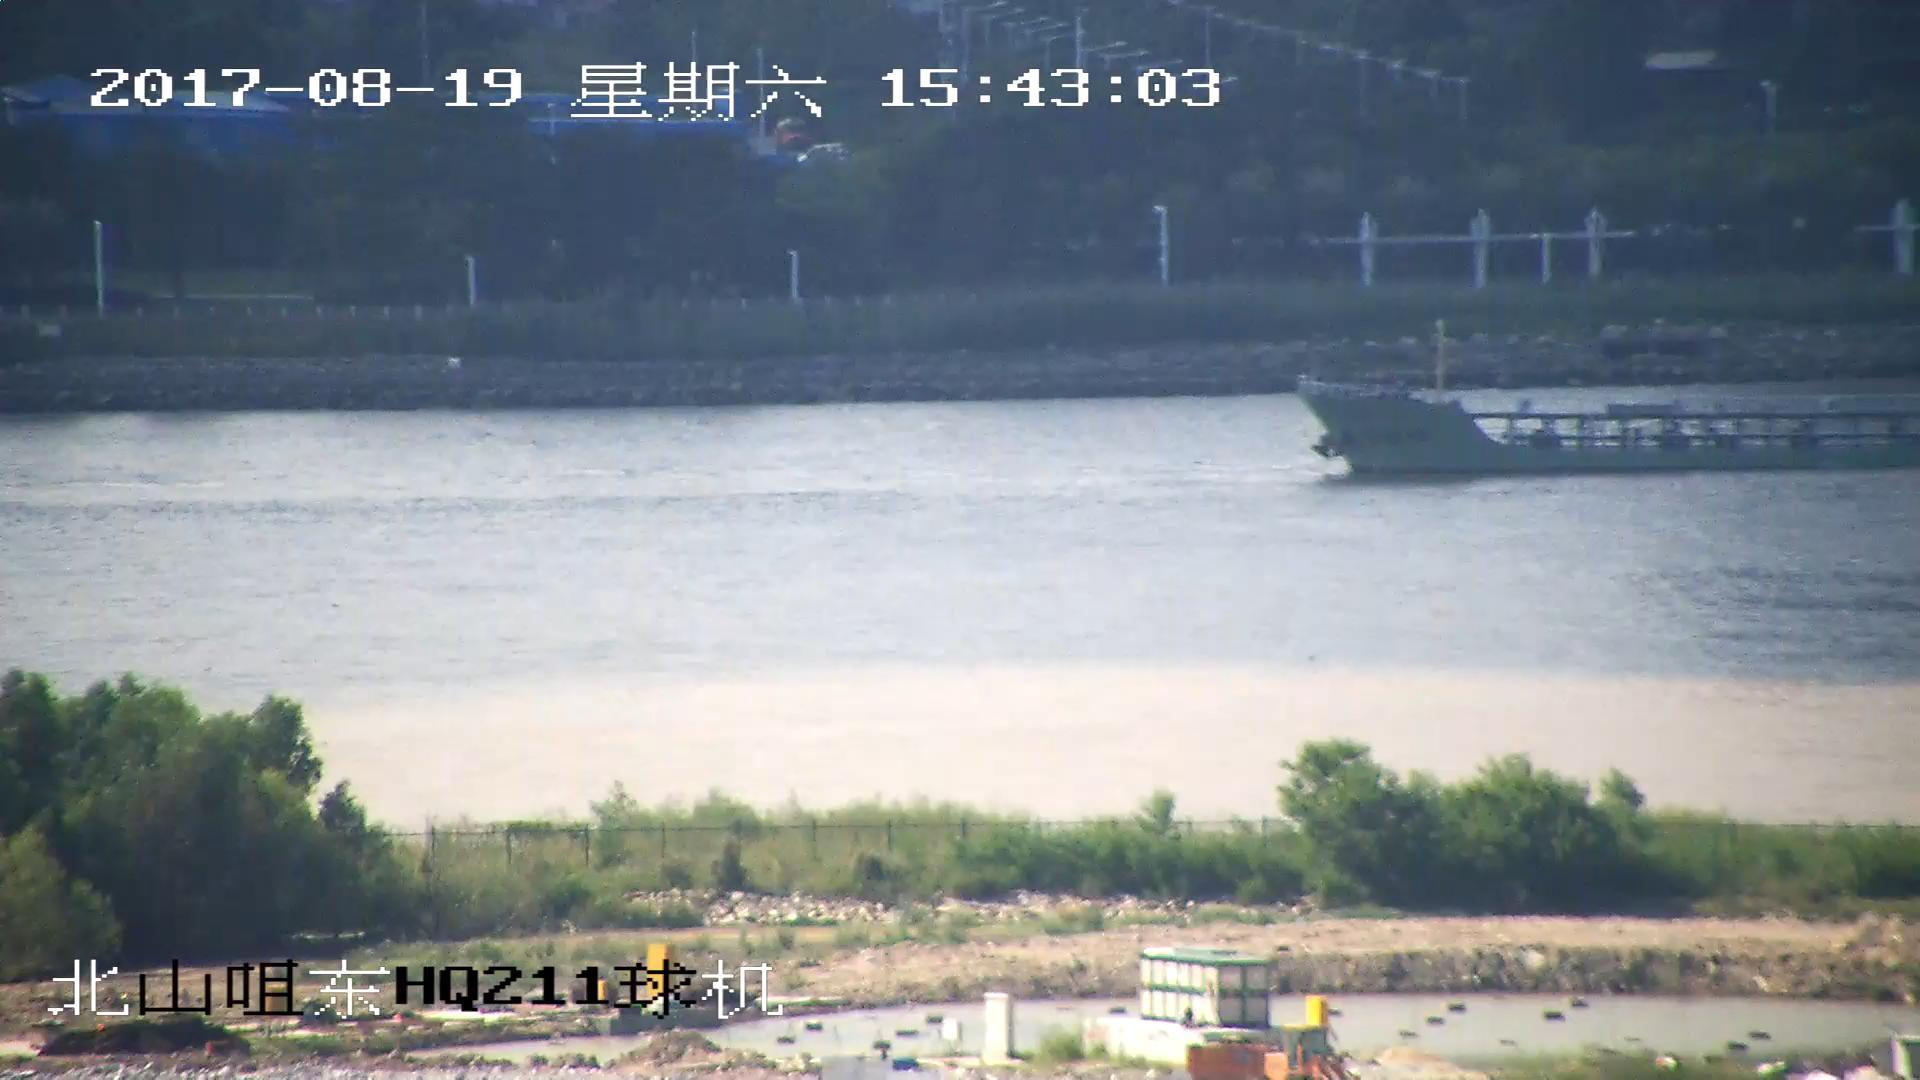Ship: (1298, 372, 1920, 483)
